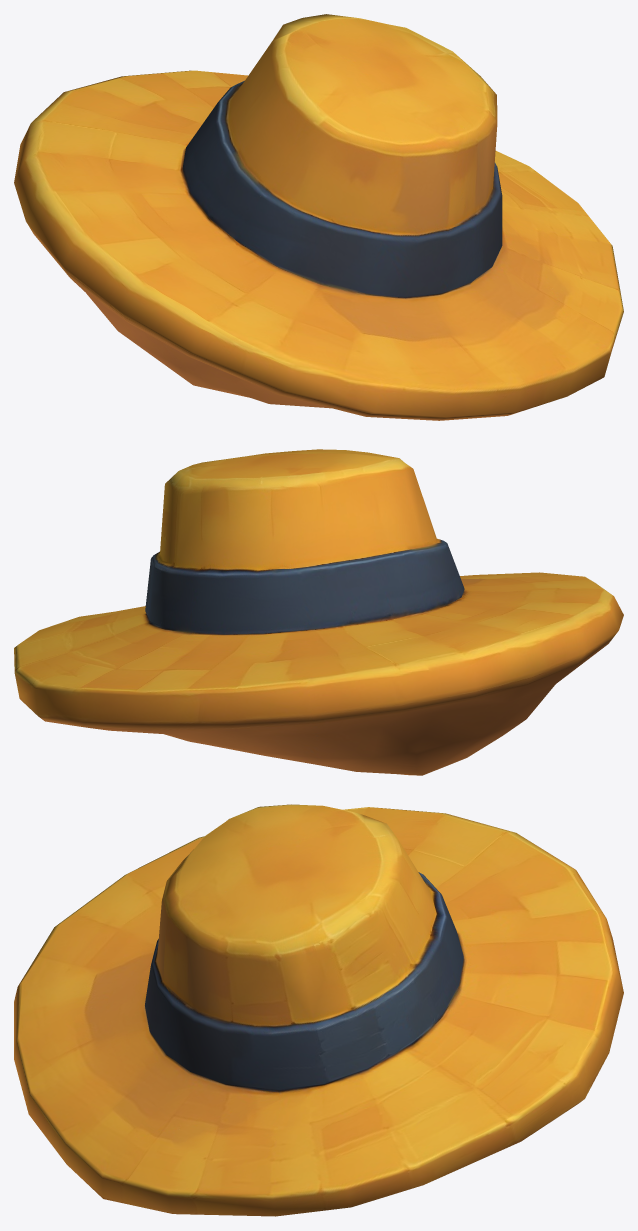
Rendered from straw-hat.glb.
3 views of the same model, one above another, from view 1: azimuth 30°, elevation 25°; view 2: azimuth 150°, elevation 25°; view 3: azimuth 270°, elevation 25° (orthographic). The views are drawn at different scales.
Parts seen in each view (by area): view 1: tripo_node_be2c089a-0cd3-4305-9381-48547237e9f3; view 2: tripo_node_be2c089a-0cd3-4305-9381-48547237e9f3; view 3: tripo_node_be2c089a-0cd3-4305-9381-48547237e9f3.
Part boxes in pixels (x1,y1,x2,y2): tripo_node_be2c089a-0cd3-4305-9381-48547237e9f3: (14, 14, 623, 420); tripo_node_be2c089a-0cd3-4305-9381-48547237e9f3: (14, 449, 623, 775); tripo_node_be2c089a-0cd3-4305-9381-48547237e9f3: (14, 804, 623, 1216).
Size of the model in its own units: 1.05 by 0.5527 by 1.03.
1 material, 1 textured.
